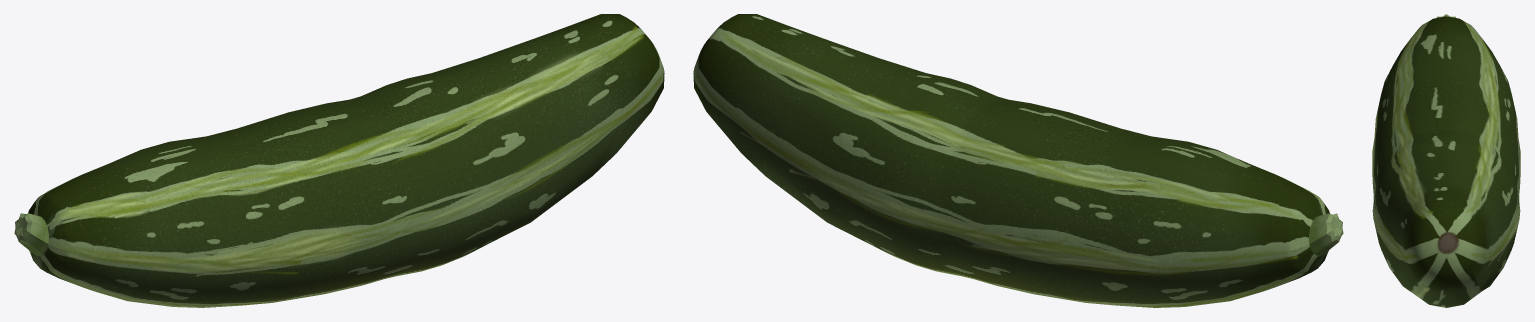
File: Kitchen_Zucchini.fbx
The picture shows the model from 3 angles, left to right: view 1: azimuth 30°, elevation 25°; view 2: azimuth 150°, elevation 25°; view 3: azimuth 270°, elevation 25°; orthographic projection. The views are drawn at different scales.
Visible parts, largest first — view 1: Kitchen_Zucchini; view 2: Kitchen_Zucchini; view 3: Kitchen_Zucchini.
Part boxes in pixels (x1,y1,x2,y2): Kitchen_Zucchini: (14,14,664,307); Kitchen_Zucchini: (693,14,1343,307); Kitchen_Zucchini: (1372,14,1520,307).
Size of the model in its own units: 221 by 65.15 by 55.08.
1 material, 1 textured.
